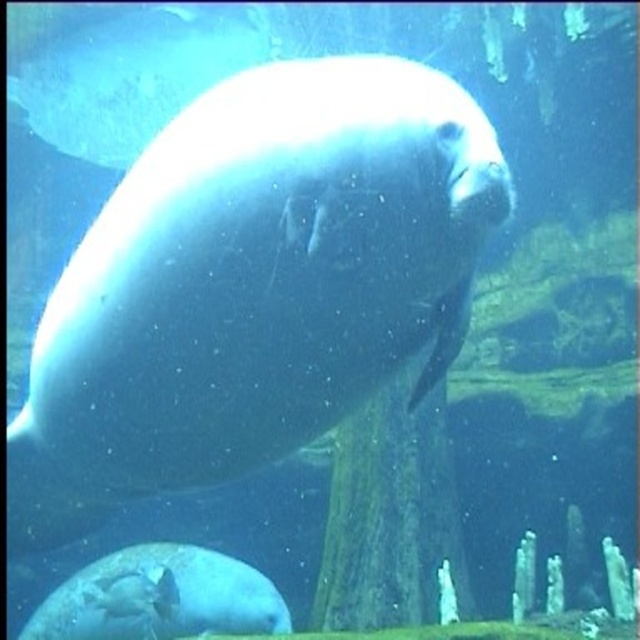Fish: (6, 54, 517, 572)
